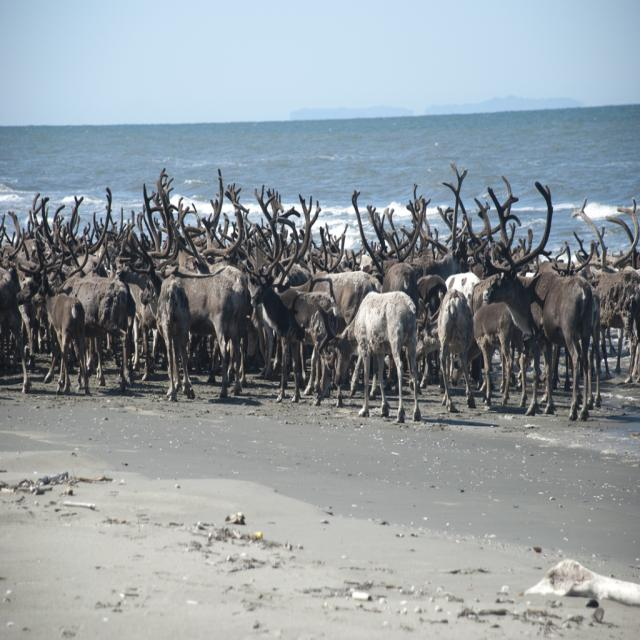Deer: (0, 162, 640, 418), (478, 175, 630, 418)
